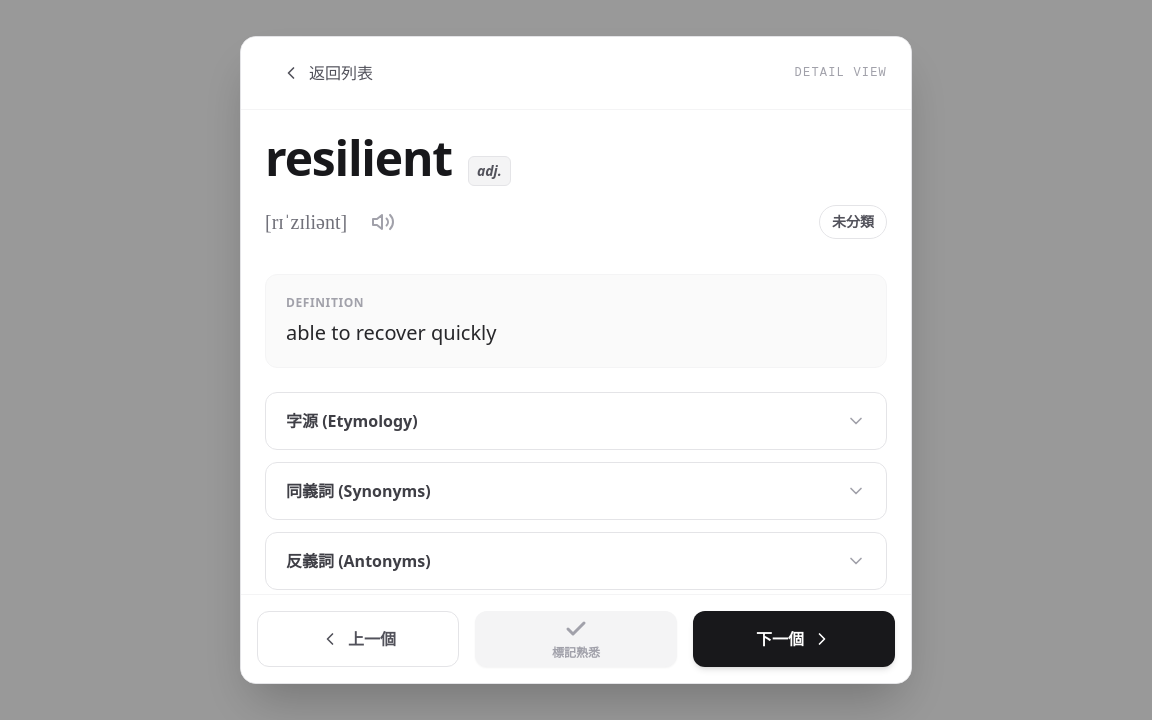
picker 選完後自己關掉
This screenshot has width=1152, height=720.
Click the button "未分類" at (853, 222), box [819,205,887,239]
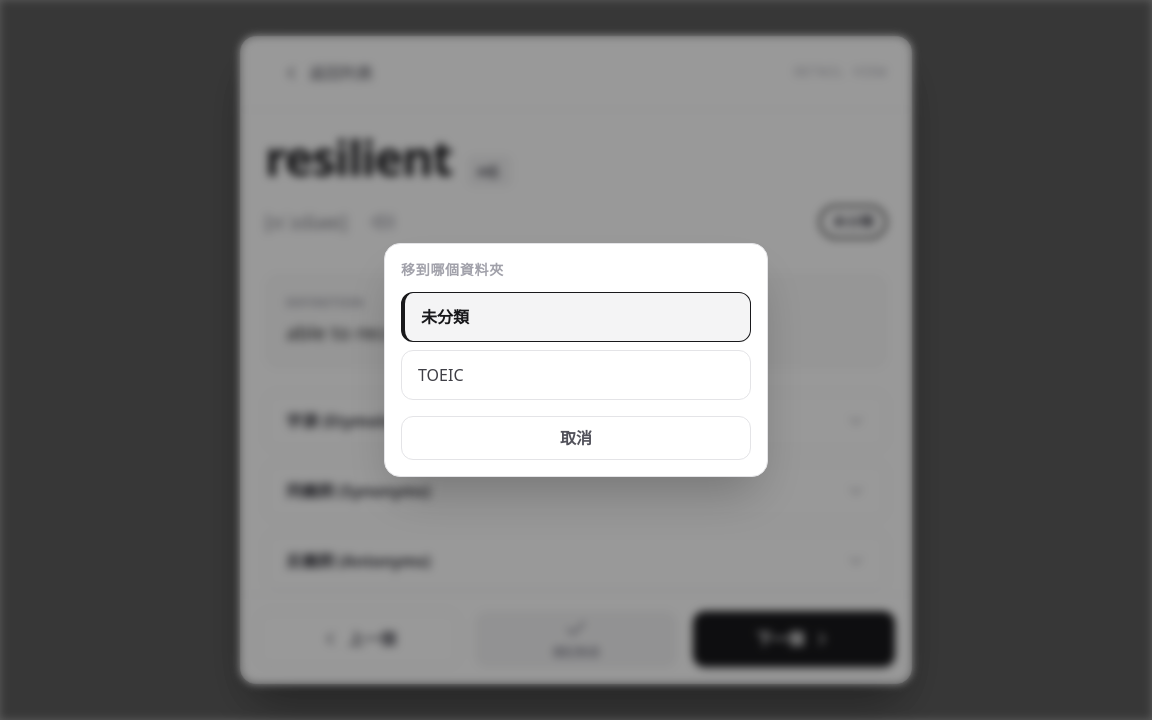
Check: the heading "移到哪個資料夾" is shown, box [401,260,504,279]
Click the button "TOEIC" at (441, 375), box [401,350,751,400]
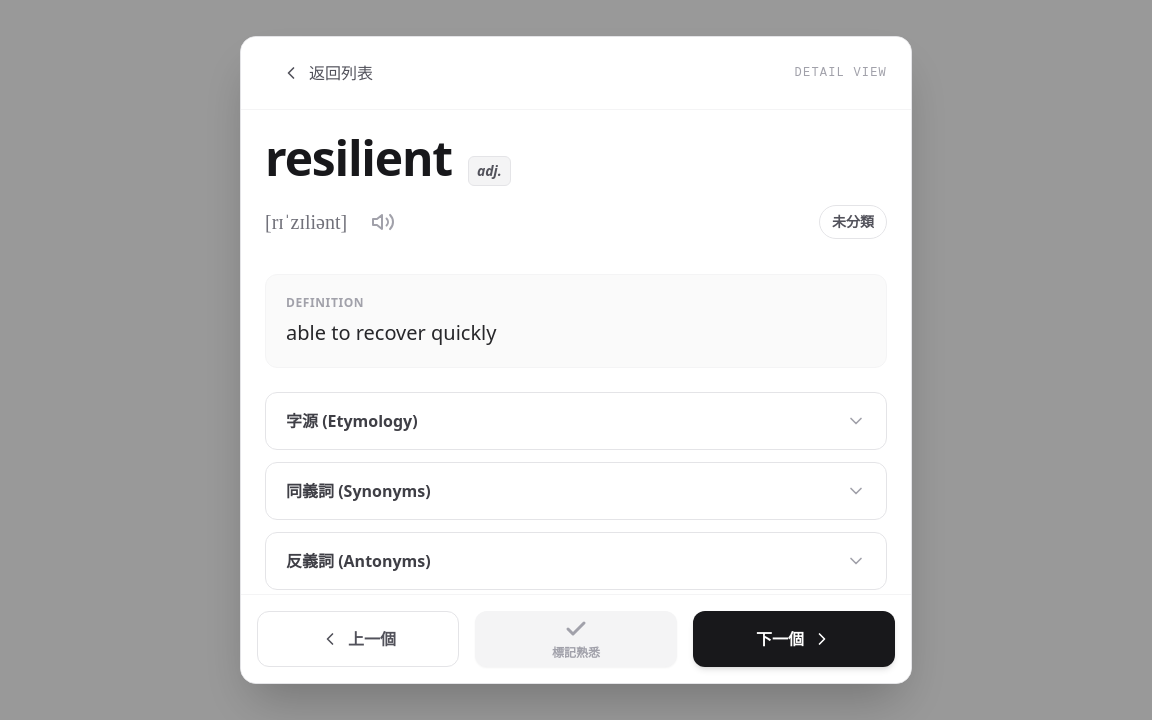
Check: the heading "移到哪個資料夾" is gone
